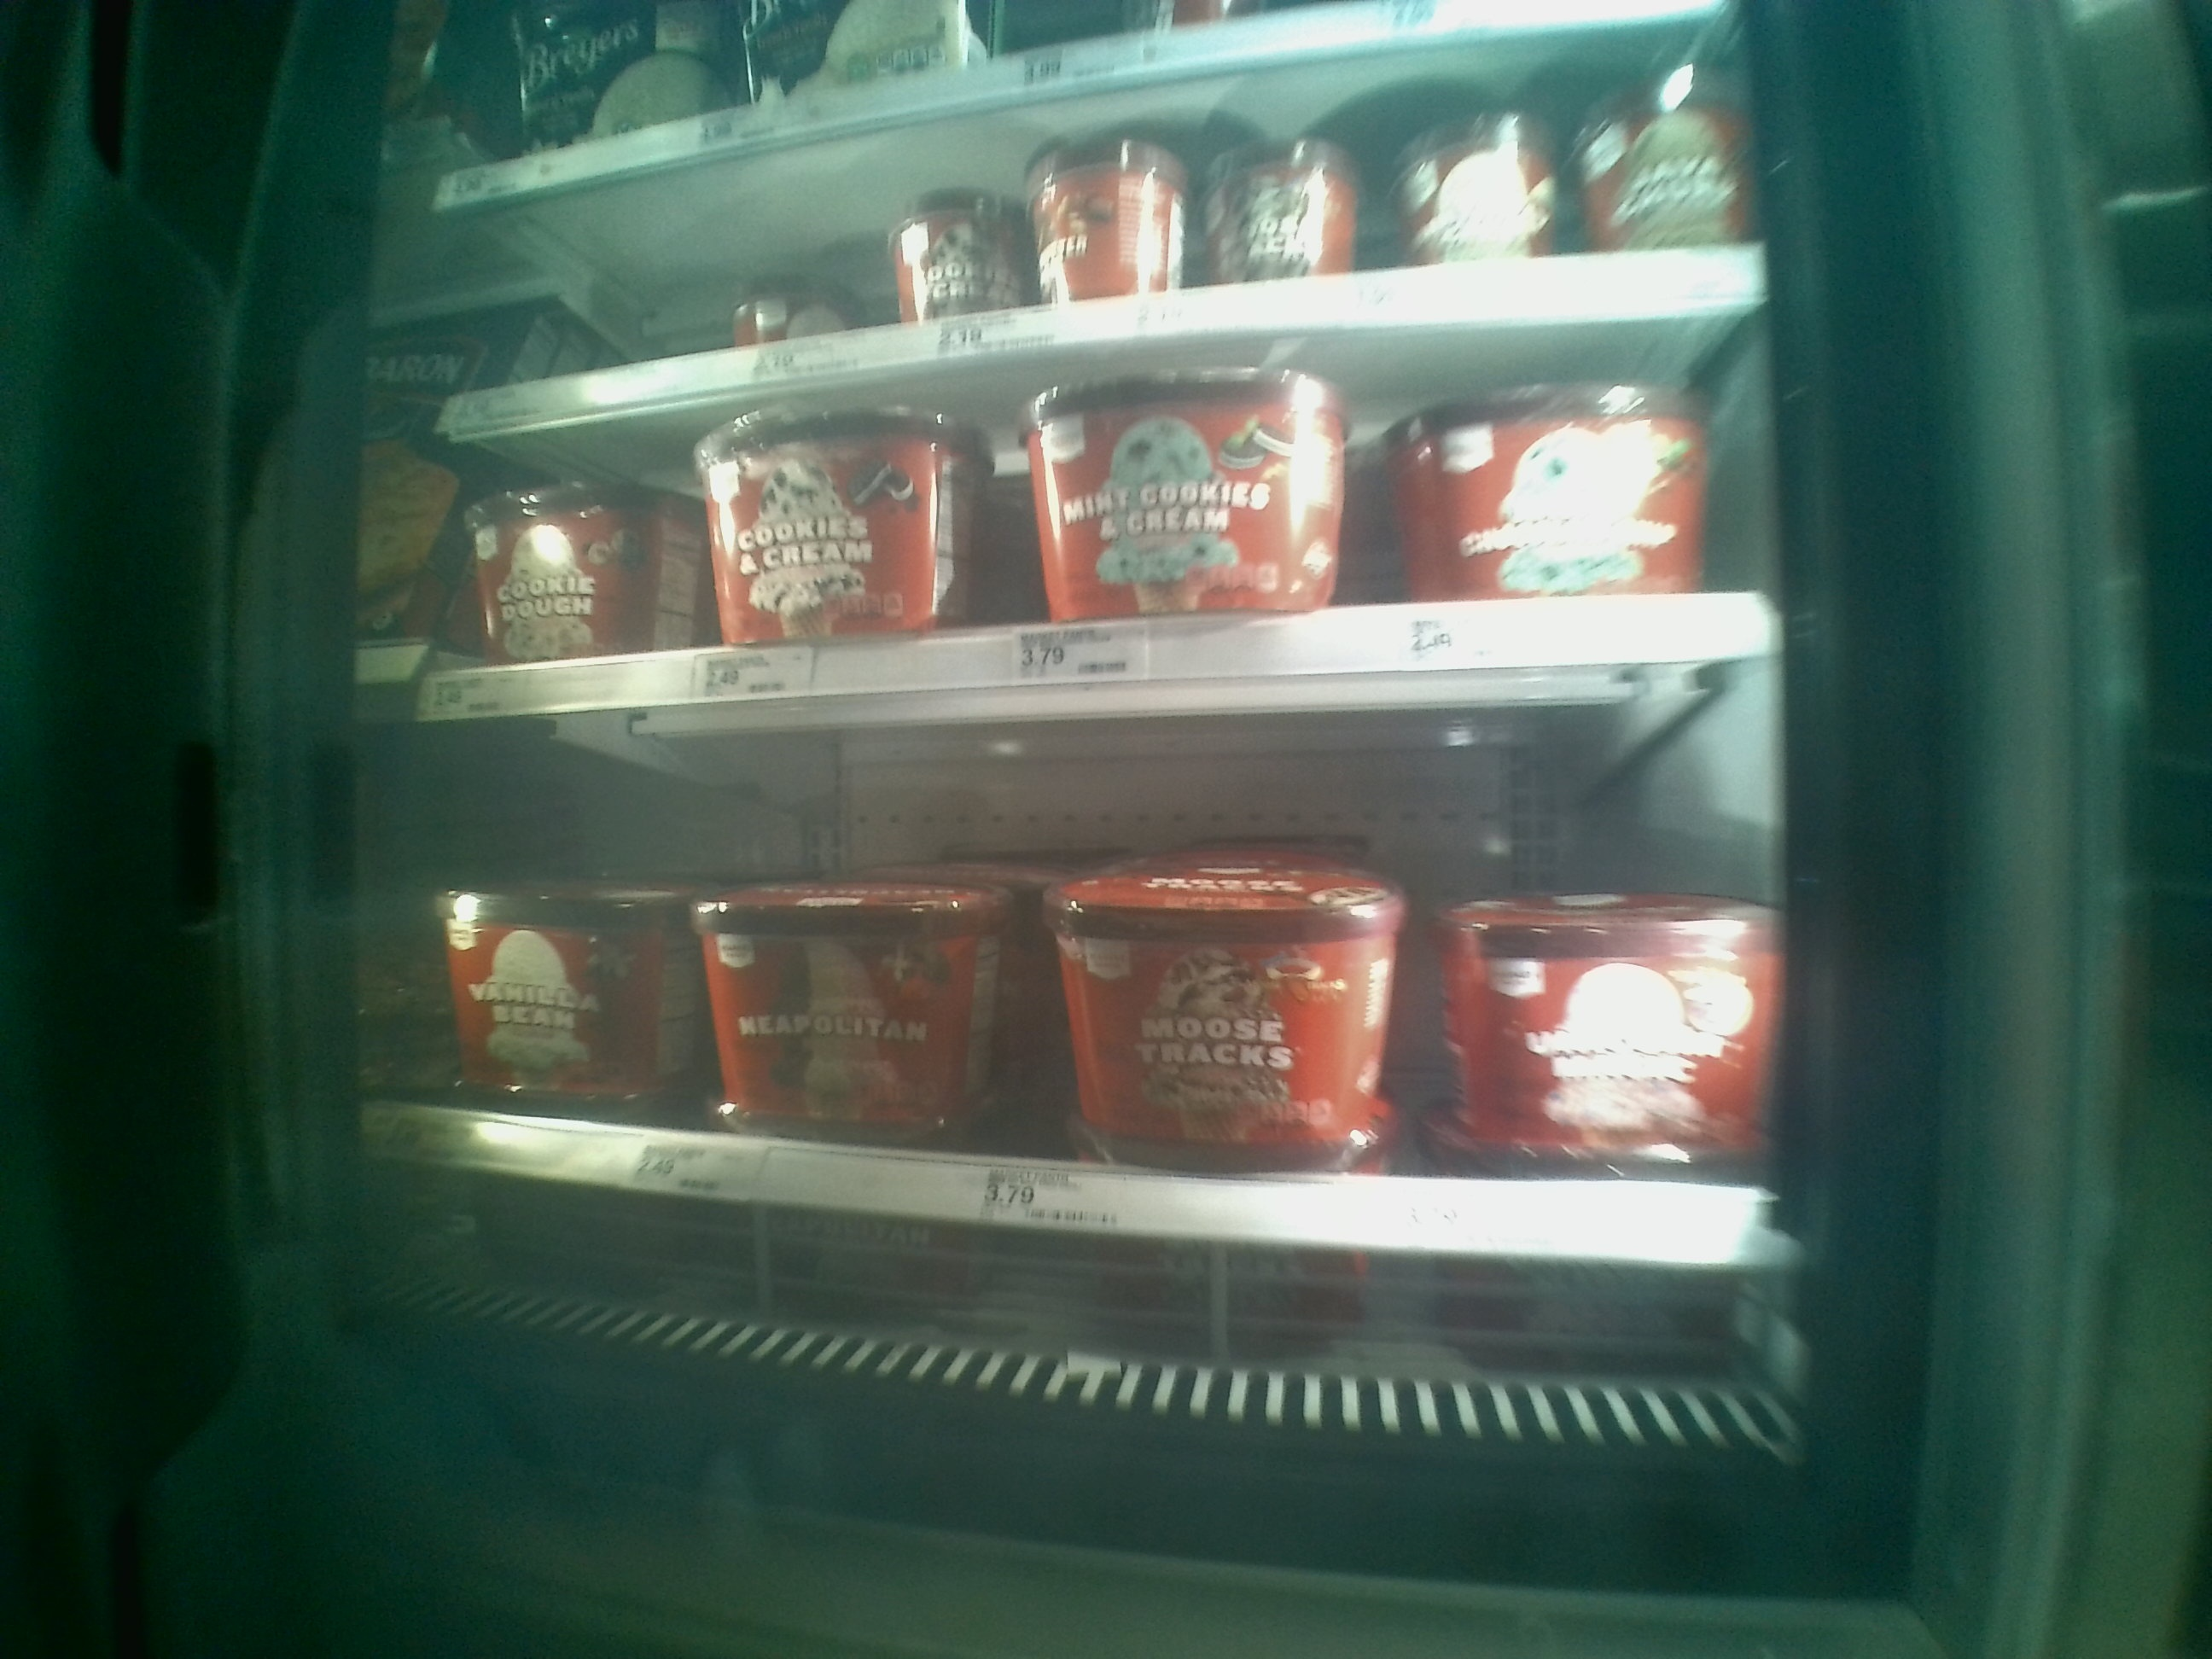ice-cream-shelf: (420, 708, 1787, 1286)
